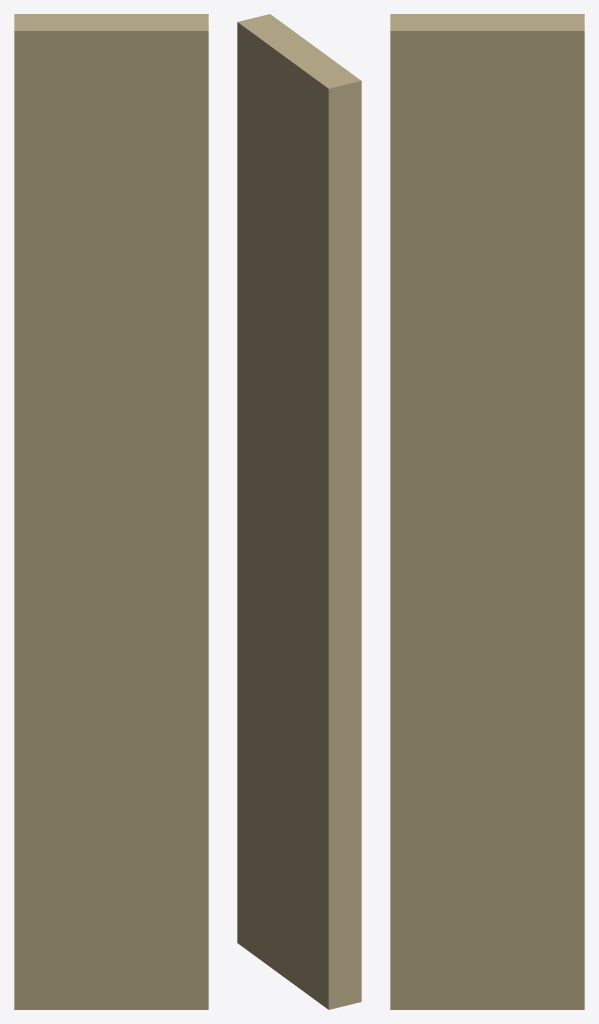
3 renders of one model, left to right at view 1: azimuth 90°, elevation 25°; view 2: azimuth 210°, elevation 25°; view 3: azimuth 270°, elevation 25°, orthographic. The views are drawn at different scales.
Parts seen in each view (by area): view 1: GF-W117; view 2: GF-W117; view 3: GF-W117.
Part boxes in pixels (x1=…): GF-W117: x1=14, y1=14, x2=208, y2=1009; GF-W117: x1=237, y1=14, x2=361, y2=1009; GF-W117: x1=390, y1=14, x2=584, y2=1009.
Size of the model in its own units: 0.09 by 2.42 by 0.435.
